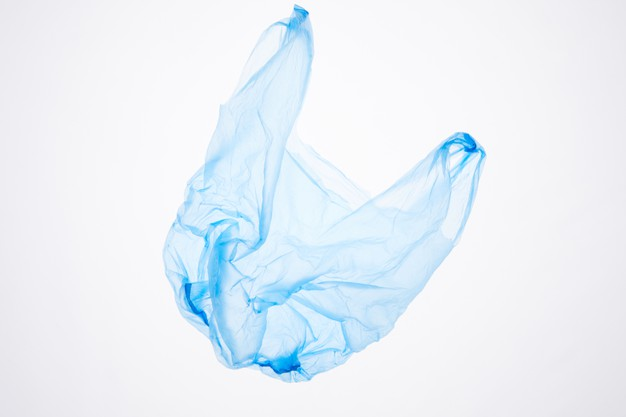plastic_bagwdw: (142, 7, 515, 403)
